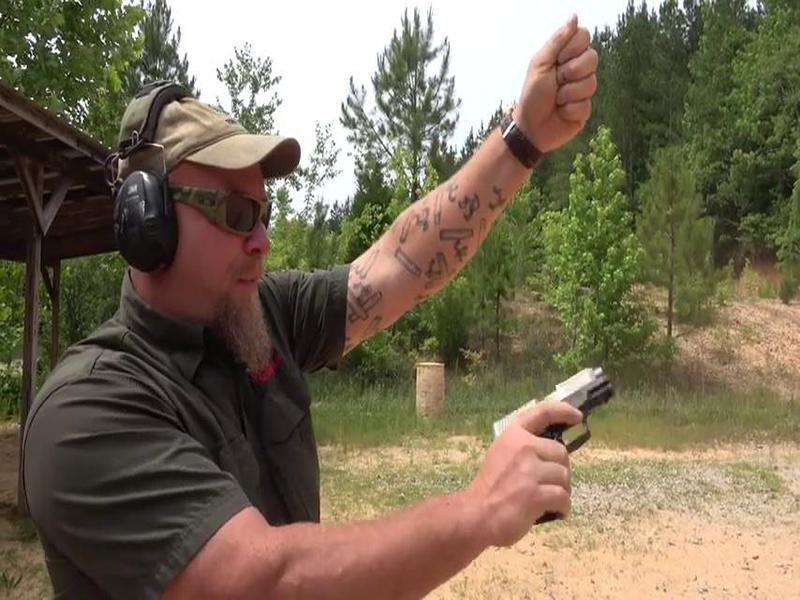Pistola: (473, 352, 627, 540)
